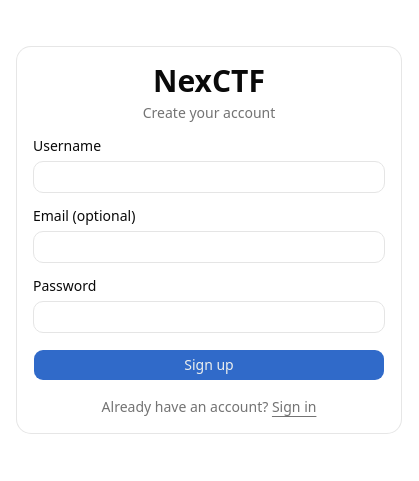
shows the API error description
Type "alice" into the field labelled "Username".
click(209, 177); type("alice")  # box [33,161,385,193]
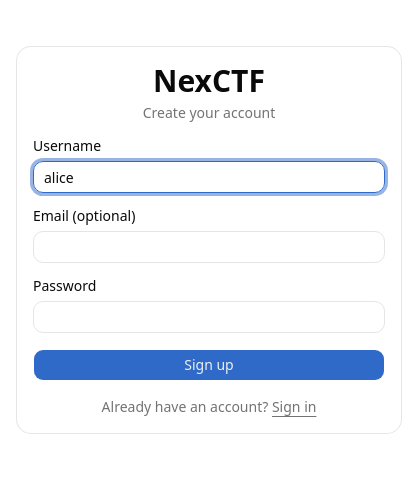
Type "hunter2" into the password field labelled "Password".
click(209, 317); type("hunter2")  # box [33,301,385,333]
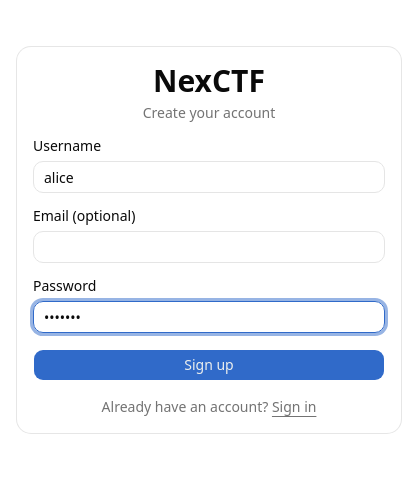
Click the button "Sign up".
click(209, 365)  # box [33,349,385,381]
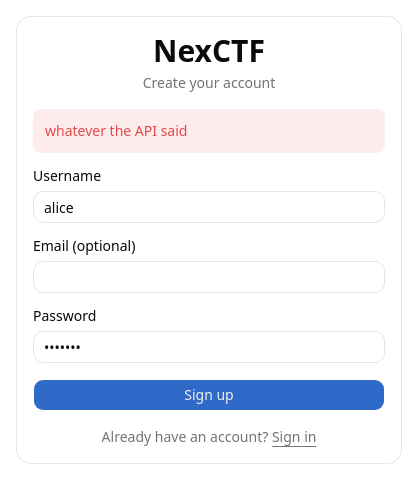
Expected: the text "whatever the API said" is shown, [33,109,385,153]
